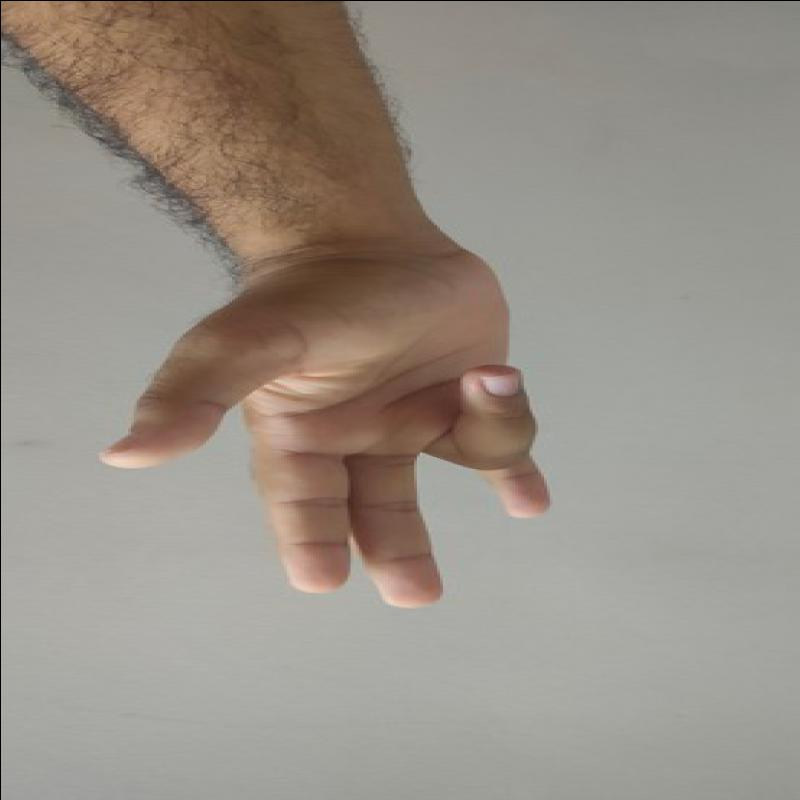Pathaaka: (85, 207, 563, 620)
